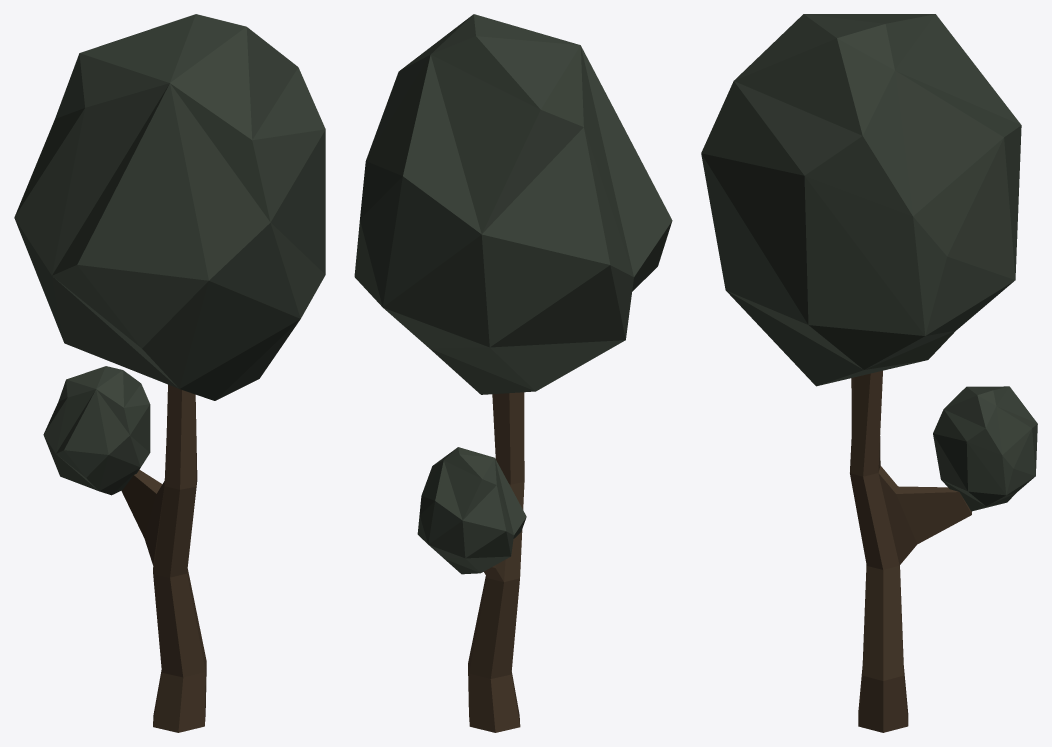
File: Tree.fbx
3 views of the same model, side by side, from view 1: azimuth 30°, elevation 25°; view 2: azimuth 150°, elevation 25°; view 3: azimuth 270°, elevation 25° (orthographic). The views are drawn at different scales.
Parts seen in each view (by area): view 1: polySurface4491; view 2: polySurface4491; view 3: polySurface4491.
Part boxes in pixels (x1,y1,x2,y2): polySurface4491: (14,14,325,732); polySurface4491: (354,14,672,732); polySurface4491: (701,14,1037,732).
Bounding box in the file's own units: 10.68 × 26.92 × 11.65.
